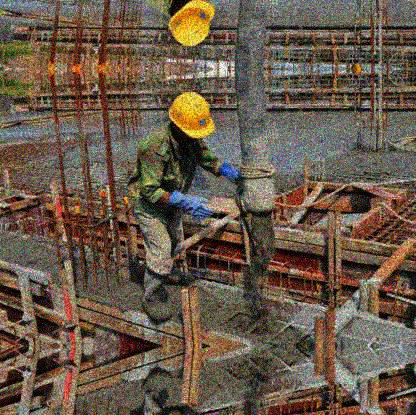helmet: (166, 91, 216, 150)
